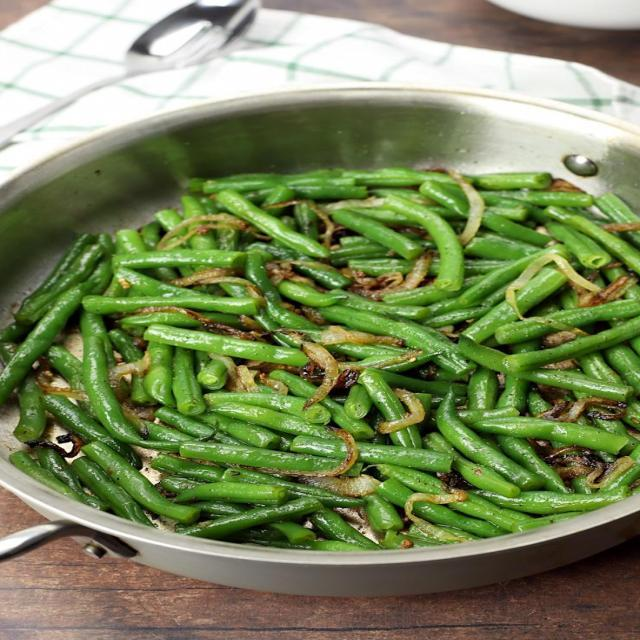Beans: (1, 147, 639, 553)
